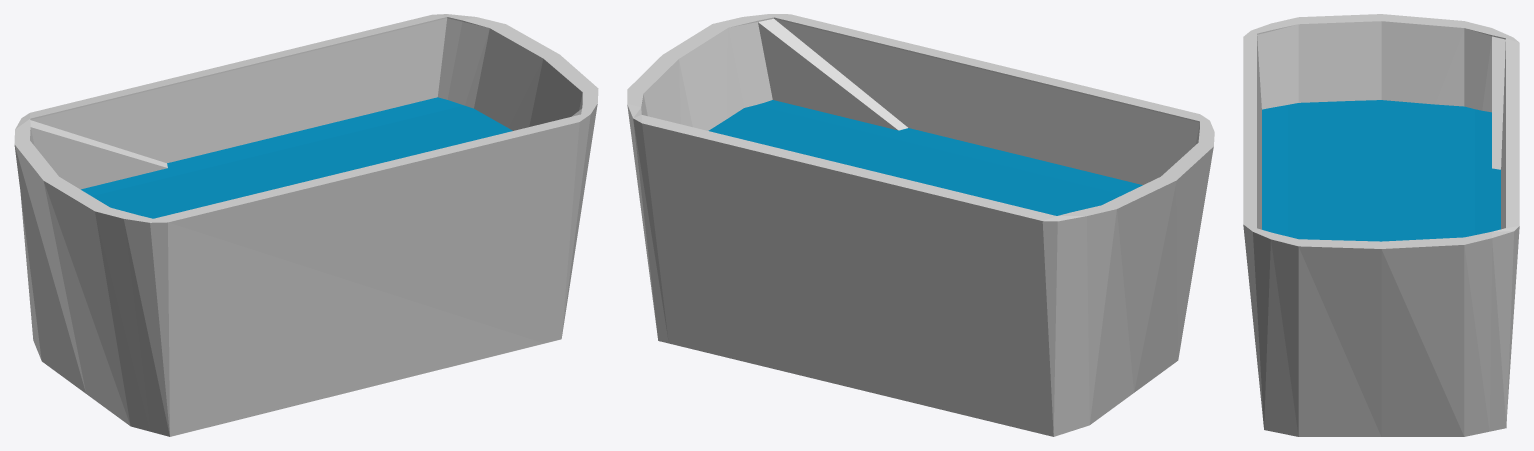
File: baignoire.fbx
3 views of the same model, side by side, from view 1: azimuth 30°, elevation 25°; view 2: azimuth 150°, elevation 25°; view 3: azimuth 270°, elevation 25° (orthographic). The views are drawn at different scales.
Parts seen in each view (by area): view 1: pCube1; view 2: pCube1; view 3: pCube1.
Boxes of the visible parts, x1=… form: pCube1: x1=14, y1=14, x2=598, y2=436; pCube1: x1=627, y1=14, x2=1214, y2=436; pCube1: x1=1243, y1=14, x2=1519, y2=436.
Bounding box in the file's own units: 3.62 × 1.5 × 1.8.
